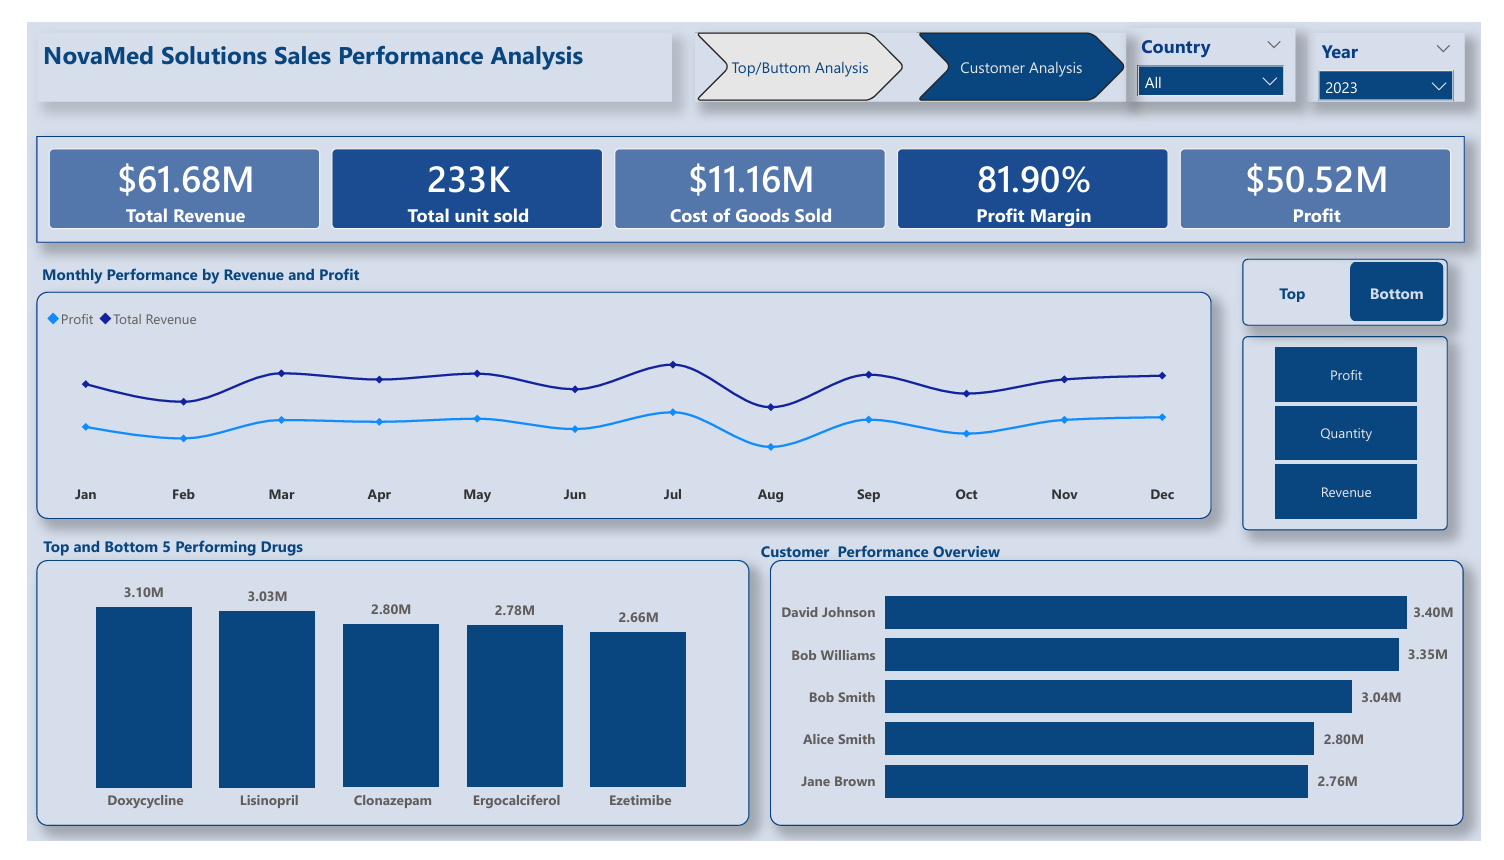

What the dashboard file says about the page in this screenshot:
{"tool":"powerbi","page":{"name":" Top/Buttom Analysis","canvas":[1280,720],"ordinal":0},"visuals":[{"type":"cardVisual","fields":{"Data":["Measure Table.Total Revenue","Measure Table.Total order","Measure Table.Total Cost","Measure Table.Profit Margin","Measure Table.Profit"]},"box":[7.6,99.9,1258.3,93.9],"z":0},{"type":"textbox","box":[9.1,9.1,558.7,60.6],"z":1000},{"type":"lineChart","fields":{"Category":["CalenderDim.MonthName"],"Y":["Measure Table.Profit","Measure Table.Total Revenue"]},"box":[8.3,237.4,1034.3,199.9],"z":2000},{"type":"slicer","fields":{"Values":["CalenderDim.Year"]},"box":[1126.6,9.1,139.3,60.6],"z":3000},{"type":"clusteredBarChart","title":"Top 5 Customers","fields":{"Category":["CustomerTable.Customer Name"],"Y":["Measure Table.Dynamic Metric"]},"box":[653.9,473.4,610.8,233.2],"z":4000},{"type":"textbox","box":[9.1,446.7,417.9,27.3],"z":5000},{"type":"textbox","box":[8.3,208.2,352.6,27.8],"z":6000},{"type":"textbox","box":[640.5,451.2,345.2,27.3],"z":7000},{"type":"slicer","fields":{"Values":["CustomerTable.Country"]},"box":[967.6,4.5,149.9,65.1],"z":8000},{"type":"pageNavigator","box":[587.5,9.1,380.1,60.6],"z":9000},{"type":"slicer","fields":{"Values":["Metric Selector.Metric"]},"box":[1070.4,276.3,180.5,170.8],"z":10000},{"type":"clusteredColumnChart","title":"Top 5 drugs","fields":{"Category":["DrugLookup.DrugName"],"Y":["Measure Table.Dynamic Metric"]},"box":[8.3,473.4,627.5,233.2],"z":11000},{"type":"bookmarkNavigator","box":[1070.4,208.2,180.5,58.3],"z":13000}]}

Visuals, with their boxes in screenshot pixels (x1, y1, x2, y2), scaled from the page's 1280x720 canvas onto the 1504x860 screenshot:
cardVisual - Measure Table.Total Revenue x Measure Table.Total order: left=9, top=119, right=1487, bottom=231
textbox: left=11, top=11, right=667, bottom=83
lineChart - CalenderDim.MonthName x Measure Table.Profit: left=10, top=284, right=1225, bottom=522
slicer - CalenderDim.Year: left=1324, top=11, right=1487, bottom=83
"Top 5 Customers" clusteredBarChart: left=768, top=565, right=1486, bottom=844
textbox: left=11, top=534, right=502, bottom=566
textbox: left=10, top=249, right=424, bottom=282
textbox: left=753, top=539, right=1158, bottom=572
slicer - CustomerTable.Country: left=1137, top=5, right=1313, bottom=83
pageNavigator: left=690, top=11, right=1137, bottom=83
slicer - Metric Selector.Metric: left=1258, top=330, right=1470, bottom=534
"Top 5 drugs" clusteredColumnChart: left=10, top=565, right=747, bottom=844
bookmarkNavigator: left=1258, top=249, right=1470, bottom=318
